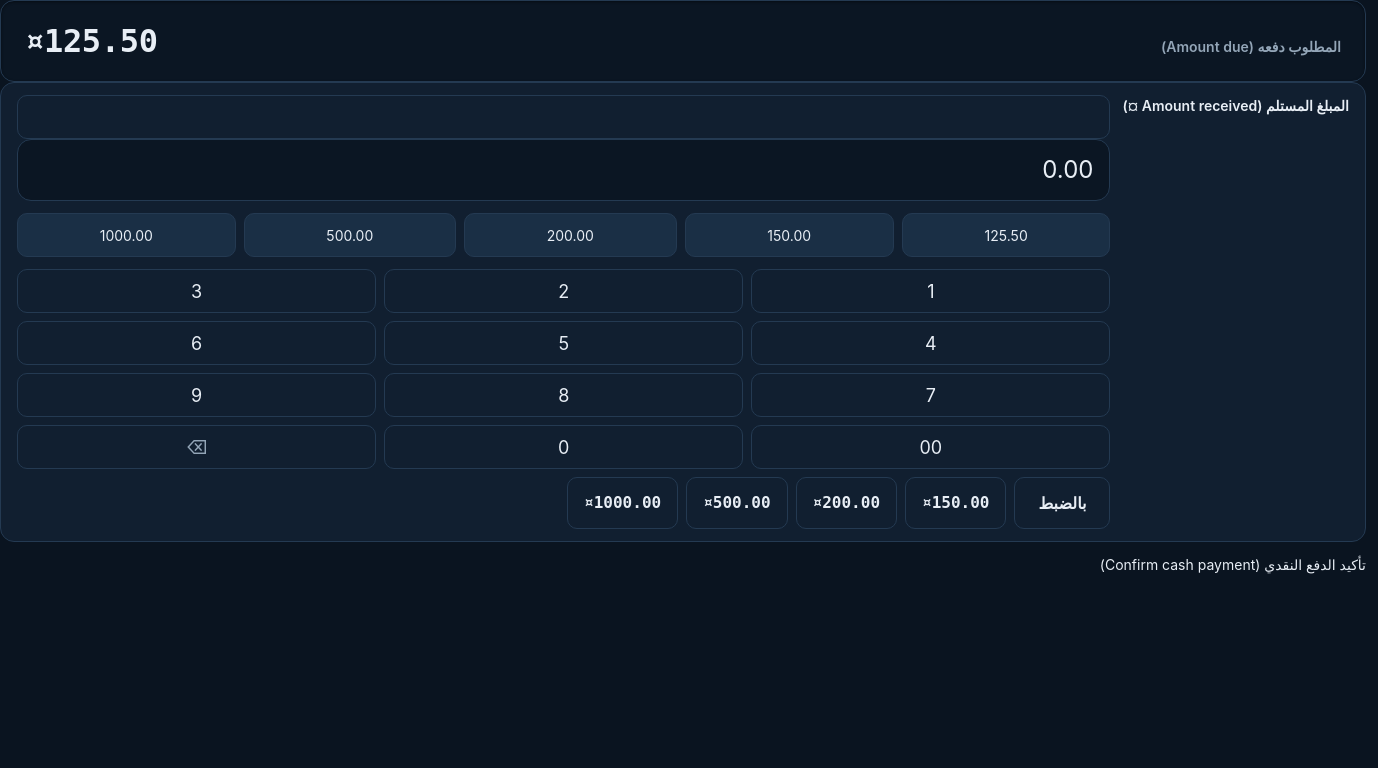
Test: <CashEntry> — confirm enablement › enables confirm when amount > remaining (overpay → change due)
Step 1. Type "150.00" into the field with test id "cash-entry-amount-input" → (564, 117), box left=17, top=95, right=1110, bottom=139
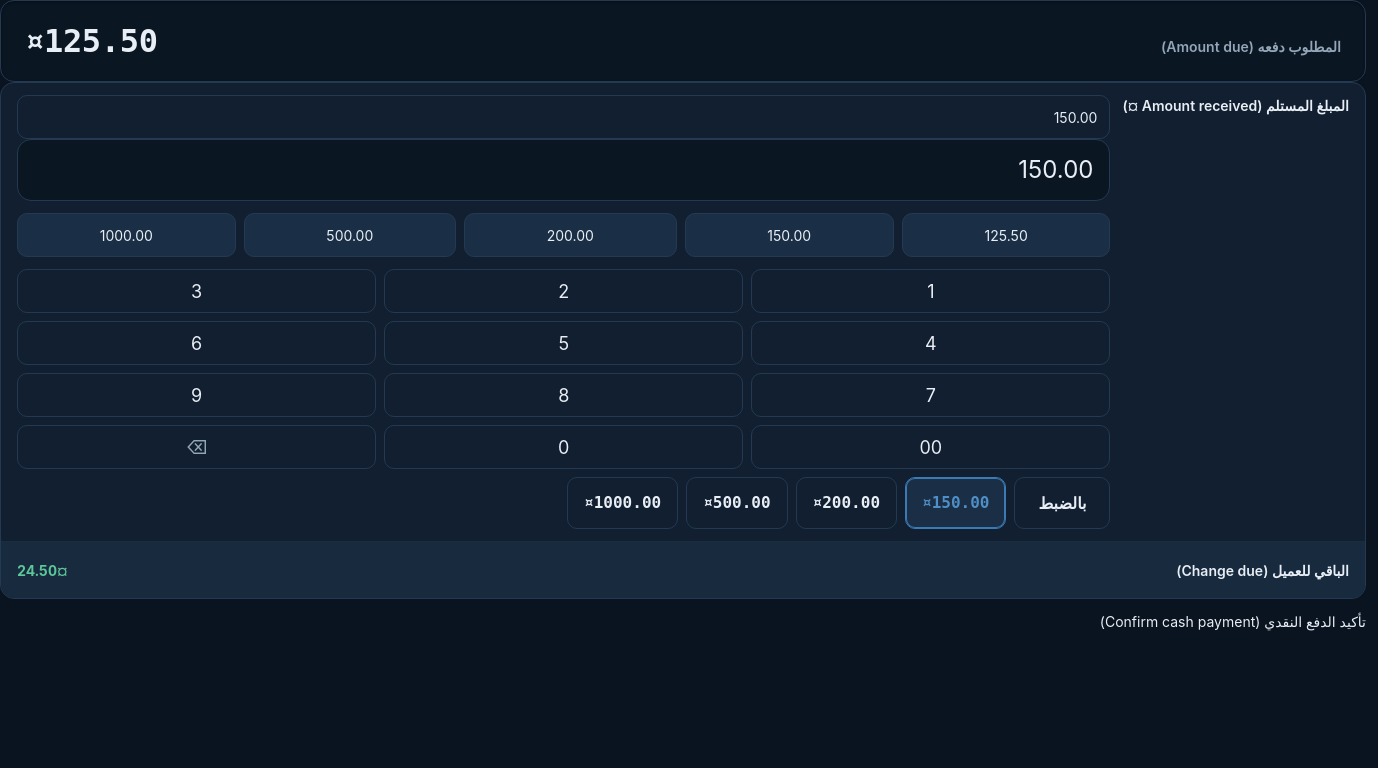
Now the button with test id "cash-entry-confirm" is enabled, box left=1100, top=599, right=1366, bottom=643
